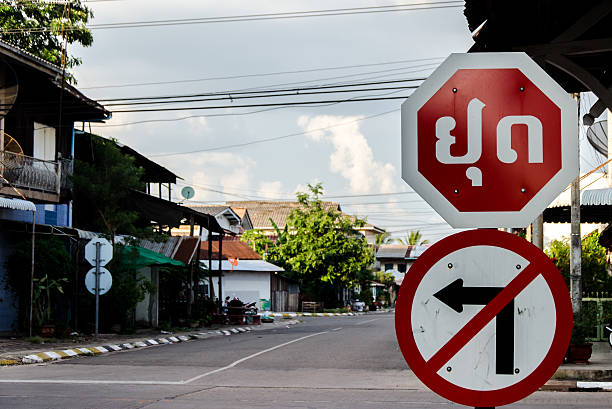sola_girilmez: (399, 230, 572, 408)
